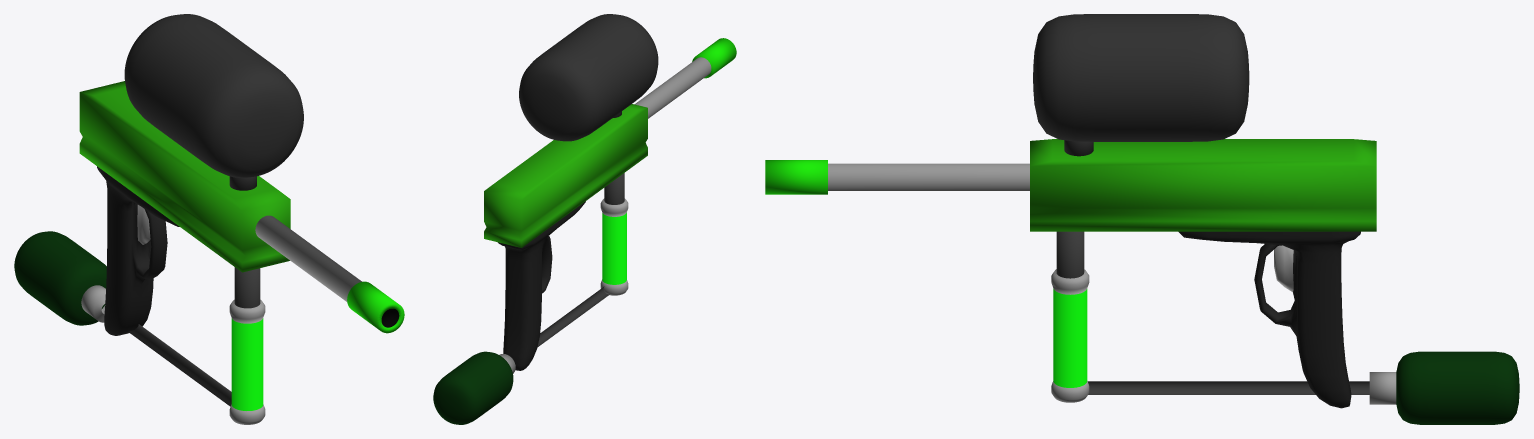
Rendered from paintball_gun.gltf.
3 views of the same model, side by side, from view 1: azimuth 30°, elevation 25°; view 2: azimuth 150°, elevation 25°; view 3: azimuth 270°, elevation 25° (orthographic). The views are drawn at different scales.
Parts seen in each view (by area): view 1: GunMesh; view 2: GunMesh; view 3: GunMesh.
Part boxes in pixels (box(x1,y1,x2,y2)): GunMesh: box(14, 14, 404, 424); GunMesh: box(433, 14, 736, 424); GunMesh: box(765, 14, 1519, 424).
Bounding box in the file's own units: 0.1091 × 0.3777 × 0.6429.
